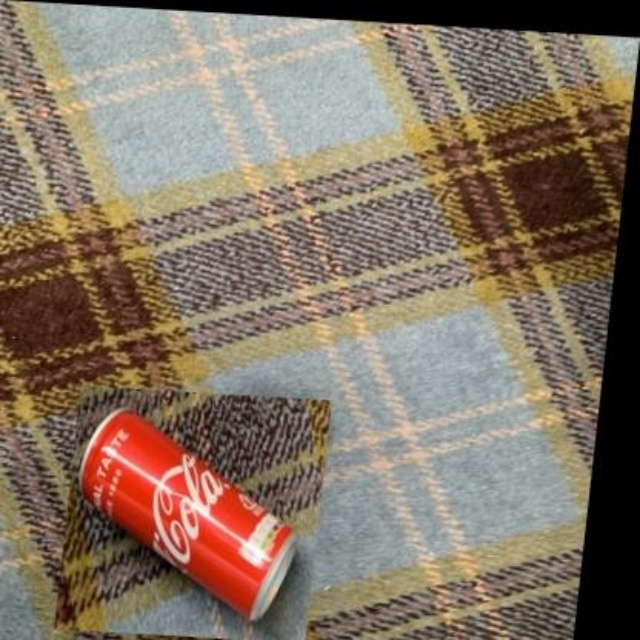trash: (80, 409, 294, 618)
